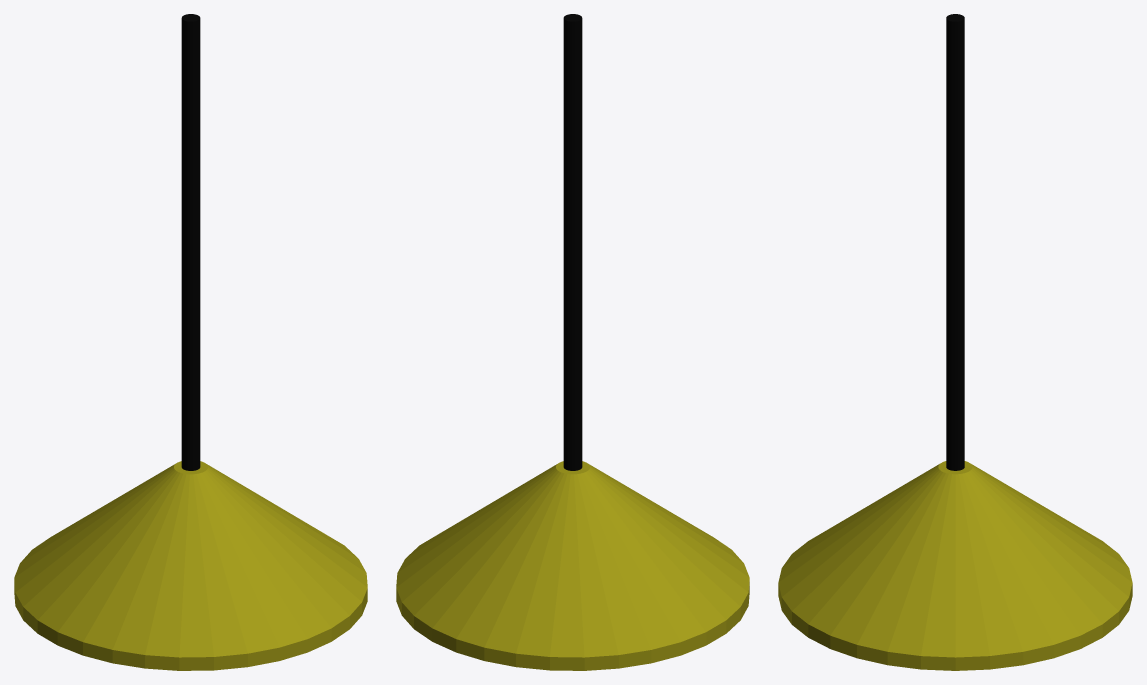
Rendered from CeilingfLamp.fbx.
3 renders of one model, left to right at view 1: azimuth 30°, elevation 25°; view 2: azimuth 150°, elevation 25°; view 3: azimuth 270°, elevation 25°, orthographic.
Visible parts, largest first — view 1: Ceiling Lamp; view 2: Ceiling Lamp; view 3: Ceiling Lamp.
Boxes of the visible parts, bbox=[...] form: Ceiling Lamp: bbox=[14, 14, 367, 670]; Ceiling Lamp: bbox=[396, 14, 749, 670]; Ceiling Lamp: bbox=[778, 14, 1132, 670].
Size of the model in its own units: 55.37 by 99.73 by 55.37.
